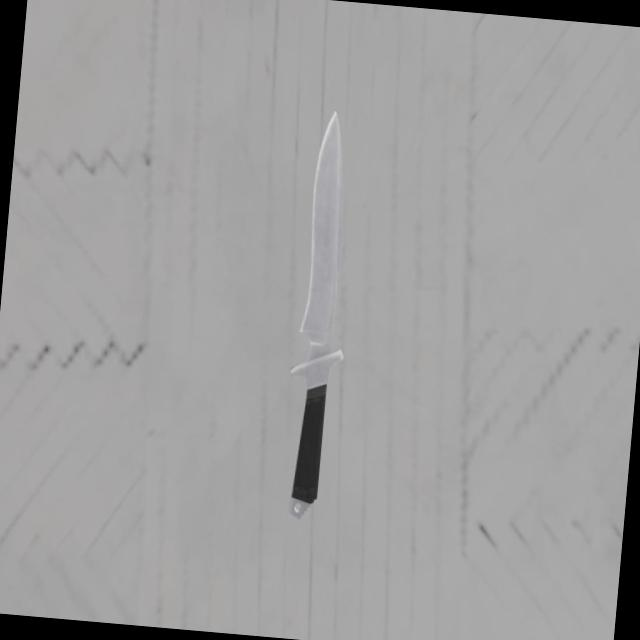knife: (287, 382, 327, 526)
